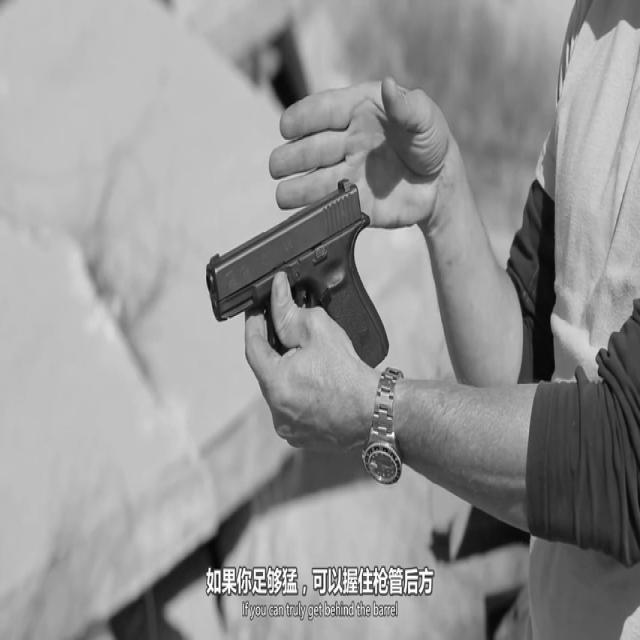Hand-Gun: (196, 123, 429, 510)
